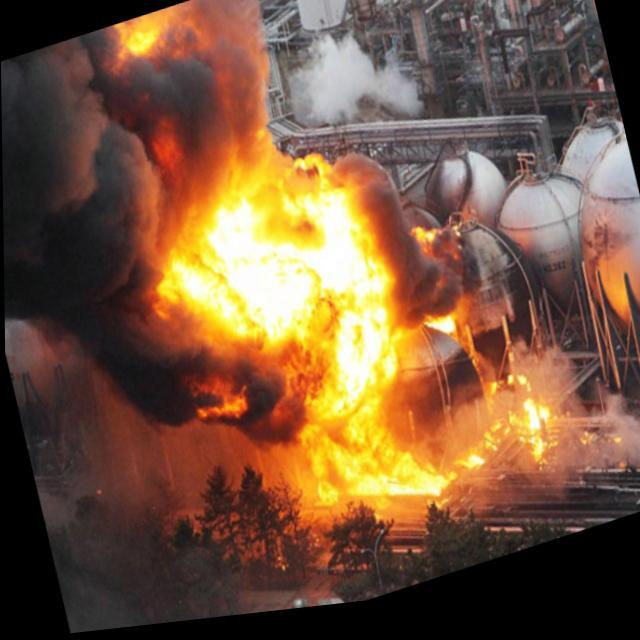fire: (26, 98, 610, 638), (117, 0, 286, 182)
